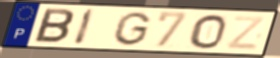7: (155, 11, 190, 50)
B: (32, 7, 76, 45)
G: (110, 11, 153, 47)
I: (72, 8, 97, 47)
O: (188, 13, 228, 50)
Z: (224, 15, 268, 52)
